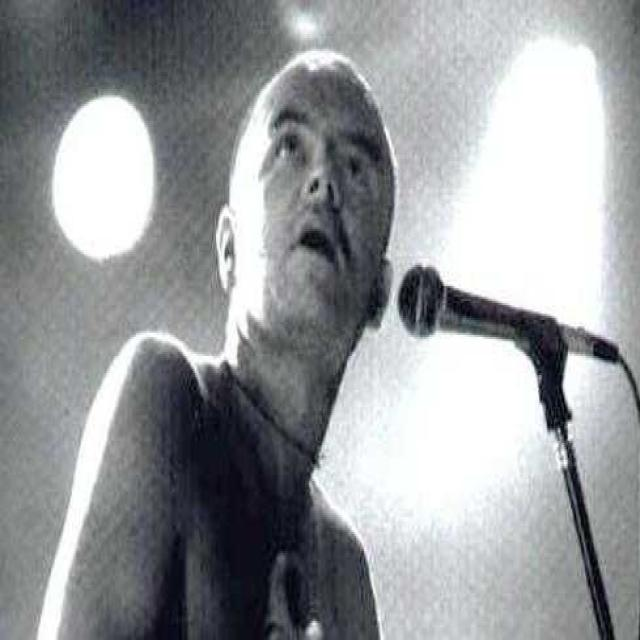microphone: (396, 264, 620, 375)
